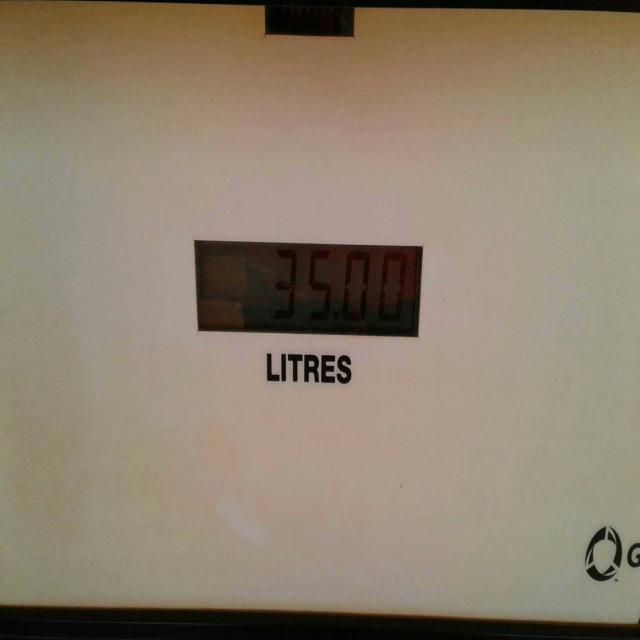.: (330, 304, 342, 332)
0: (375, 252, 410, 328), (342, 248, 369, 326)
3: (273, 243, 302, 328)
5: (302, 252, 335, 326)
